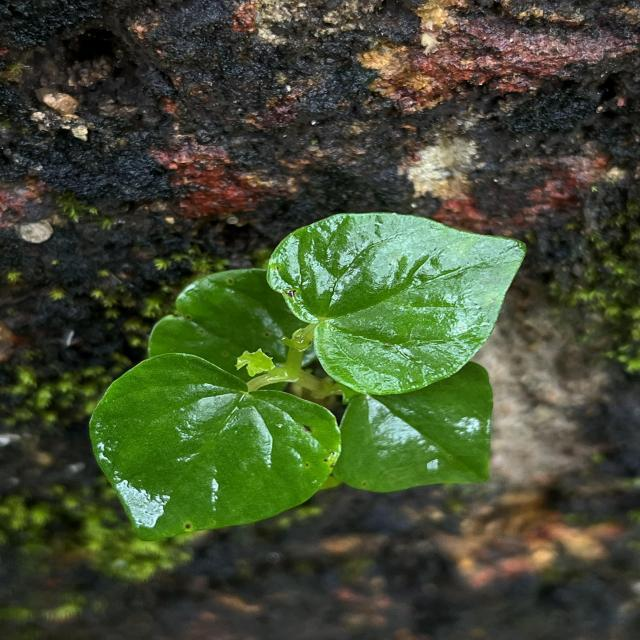Peperomia pellucida: (82, 348, 346, 556), (263, 208, 532, 398), (264, 210, 534, 398)
